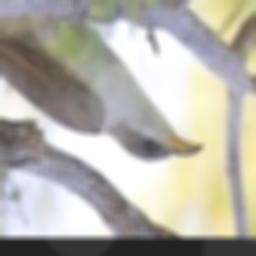Cuckoo: (0, 13, 202, 162)
